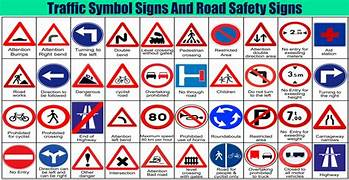left: (72, 22, 105, 46)
right: (313, 61, 345, 89), (37, 22, 70, 46)
